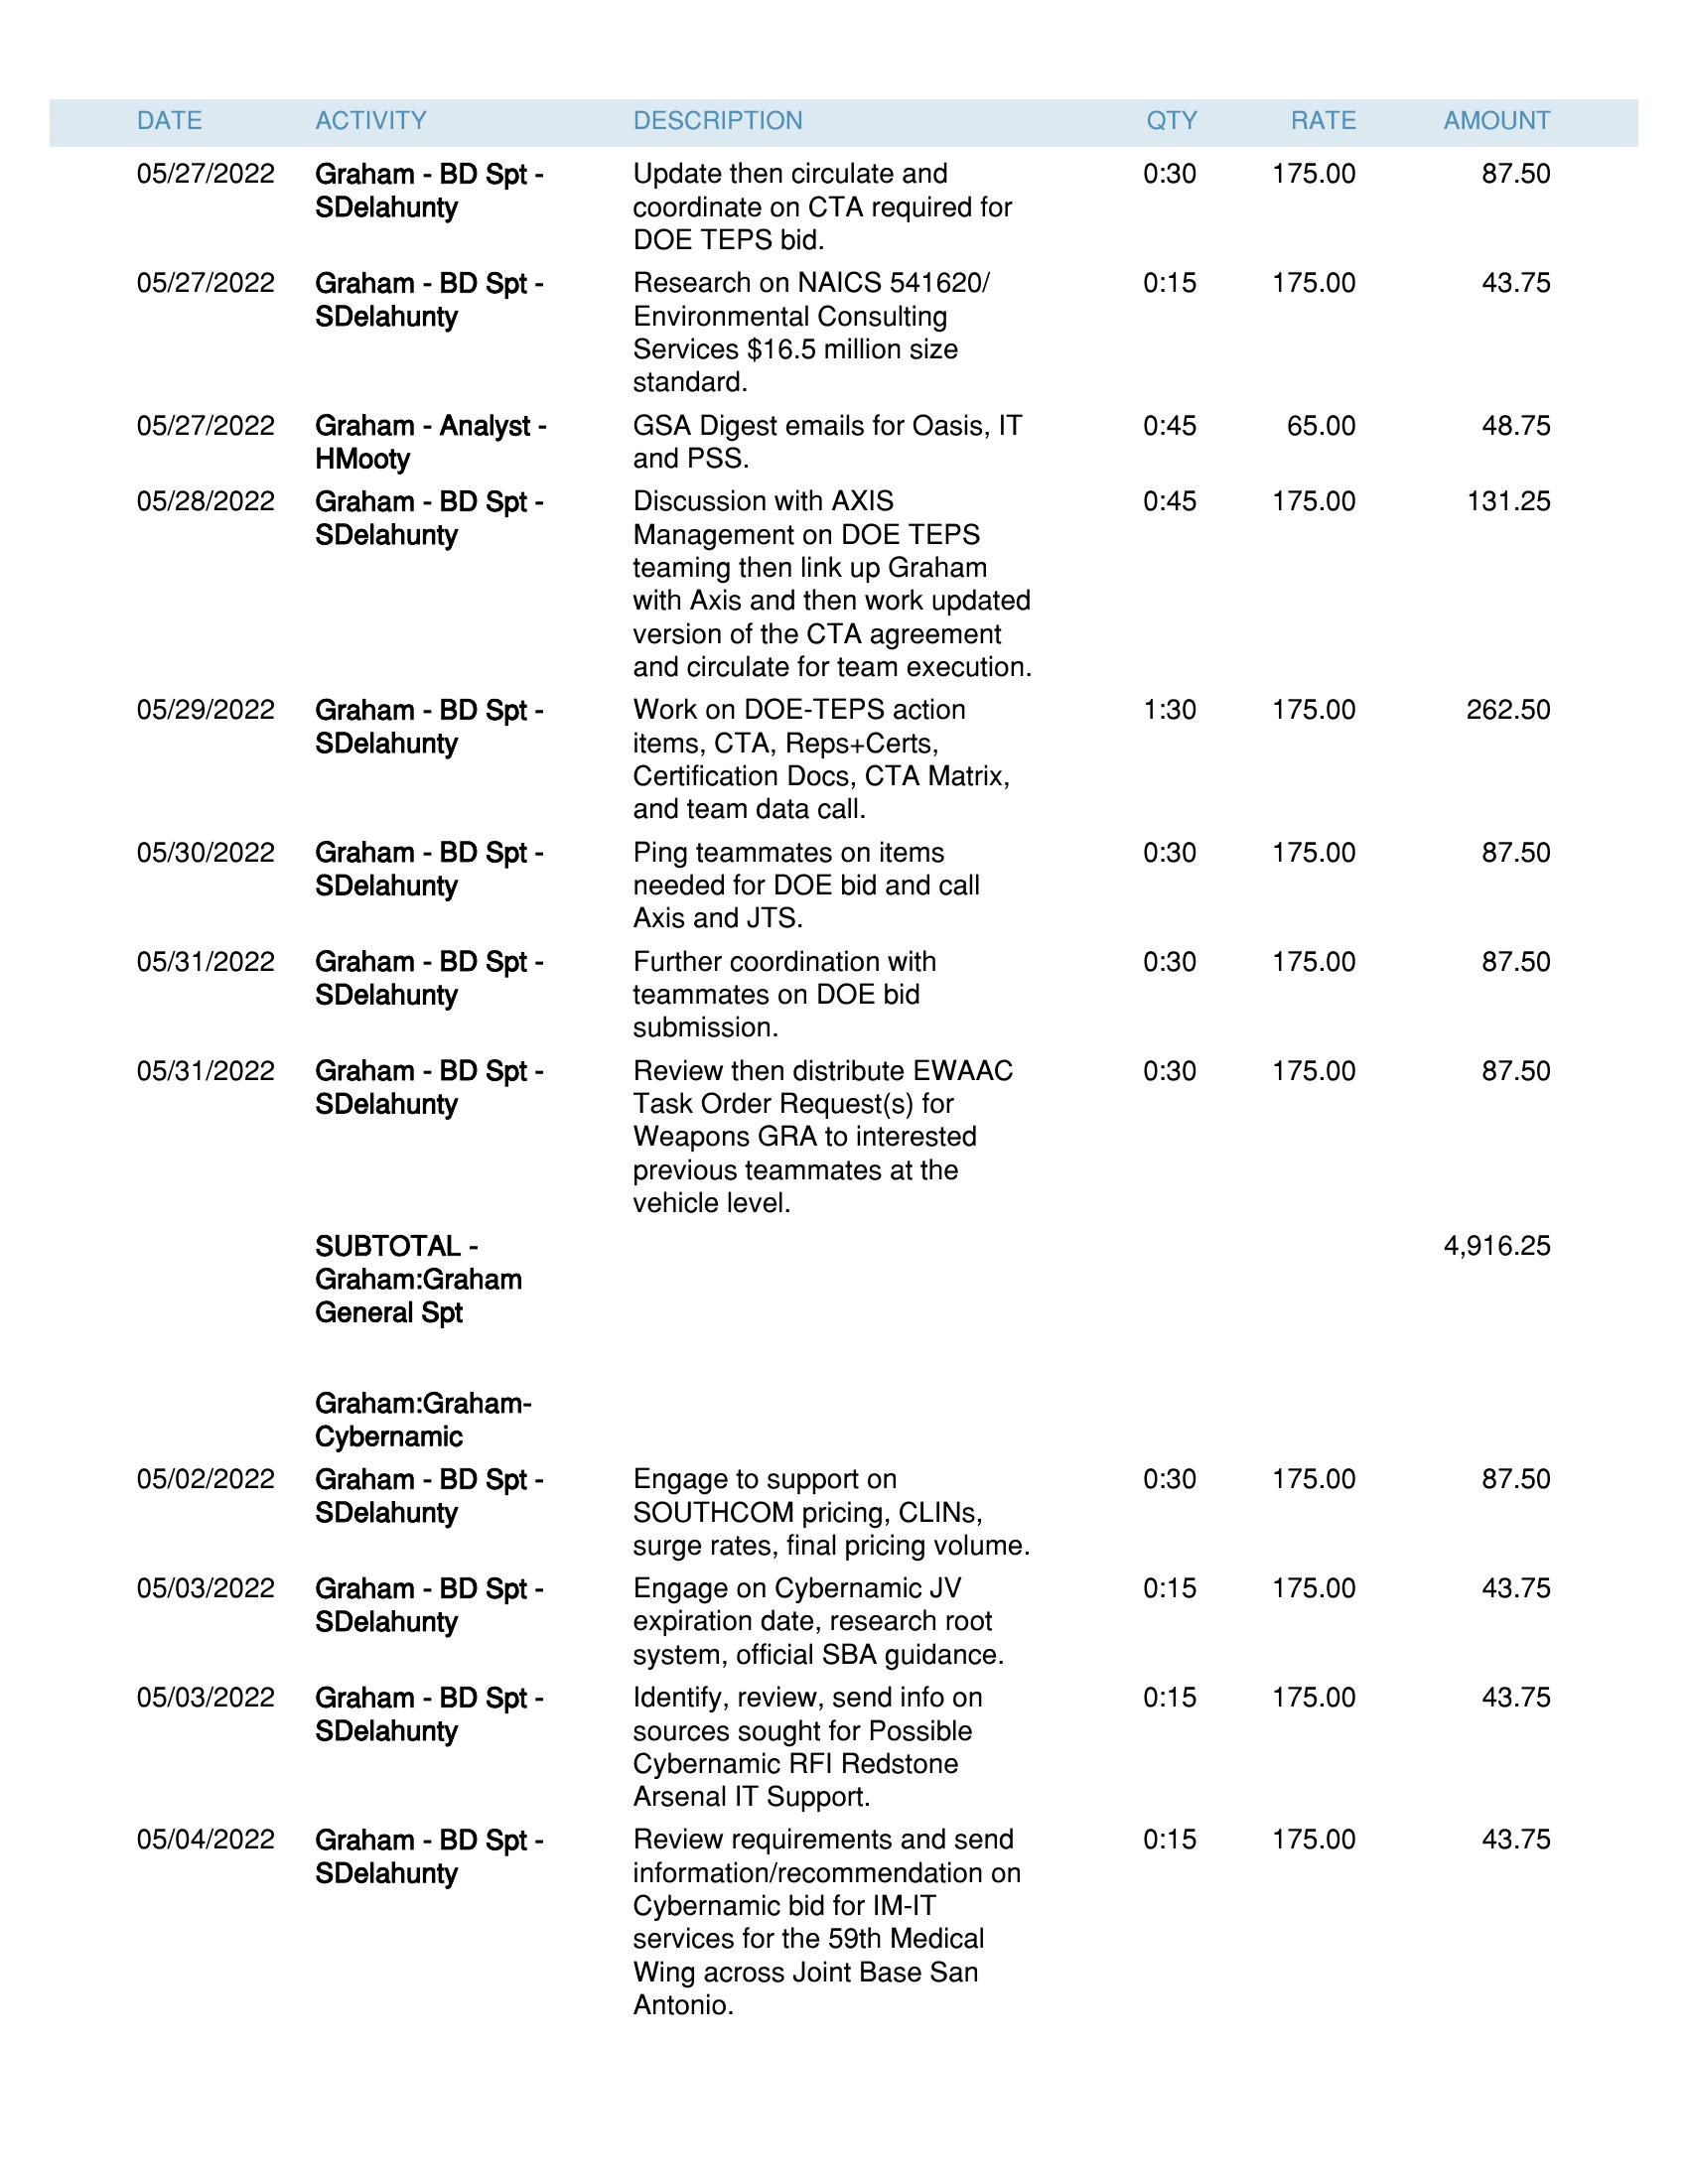table: (46, 67, 1637, 2033)
